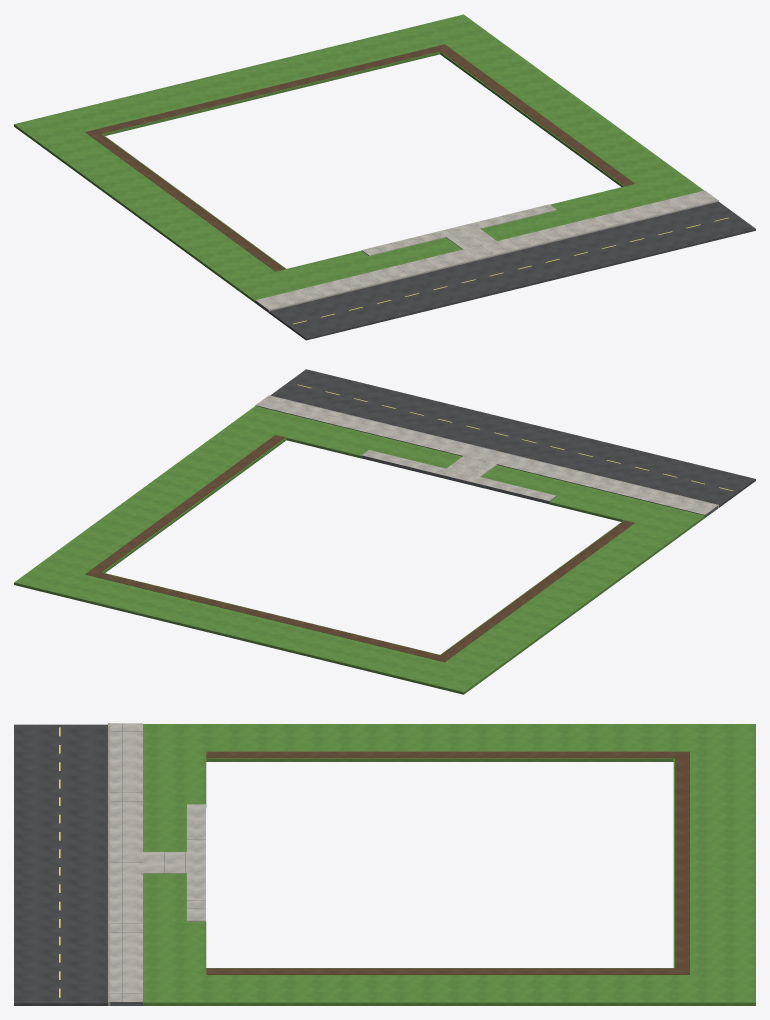
Rendered from site.glb.
3 renders of one model, top to bottom at view 1: azimuth 30°, elevation 25°; view 2: azimuth 150°, elevation 25°; view 3: azimuth 270°, elevation 25°, orthographic. The views are drawn at different scales.
Visible parts, largest first — view 1: site_grass, site_asphalt, site_concrete, site_soil, site_curb; view 2: site_grass, site_asphalt, site_concrete, site_soil, site_dark, site_curb; view 3: site_grass, site_asphalt, site_concrete, site_soil, site_curb.
Boxes of the visible parts, box(x1,y1,x2,y2) form: site_grass: box(14, 14, 703, 302); site_asphalt: box(269, 201, 755, 340); site_concrete: box(255, 190, 717, 309); site_soil: box(85, 44, 634, 271); site_curb: box(268, 200, 718, 312); site_grass: box(14, 406, 704, 694); site_asphalt: box(270, 369, 755, 507); site_concrete: box(256, 396, 717, 514); site_soil: box(85, 435, 634, 662); site_dark: box(255, 405, 717, 517); site_curb: box(268, 395, 718, 508); site_grass: box(143, 724, 755, 1005); site_asphalt: box(14, 724, 107, 1005); site_concrete: box(110, 723, 205, 1001); site_soil: box(206, 751, 689, 974); site_curb: box(108, 723, 110, 1005).
Bounding box in the file's own units: 48 × 0.32 × 54.
Materials: 7 (5 with a texture image).
